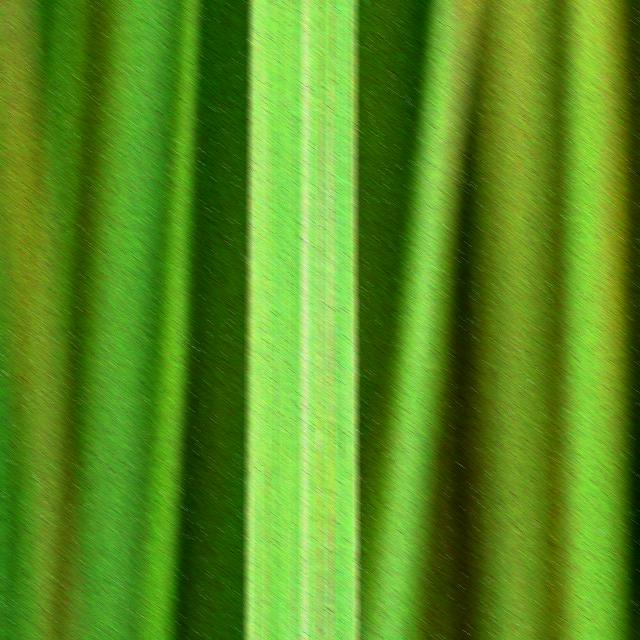BLS: (316, 0, 323, 640), (352, 0, 358, 640), (328, 0, 334, 640), (264, 436, 269, 640), (255, 472, 261, 640), (270, 0, 271, 8)
